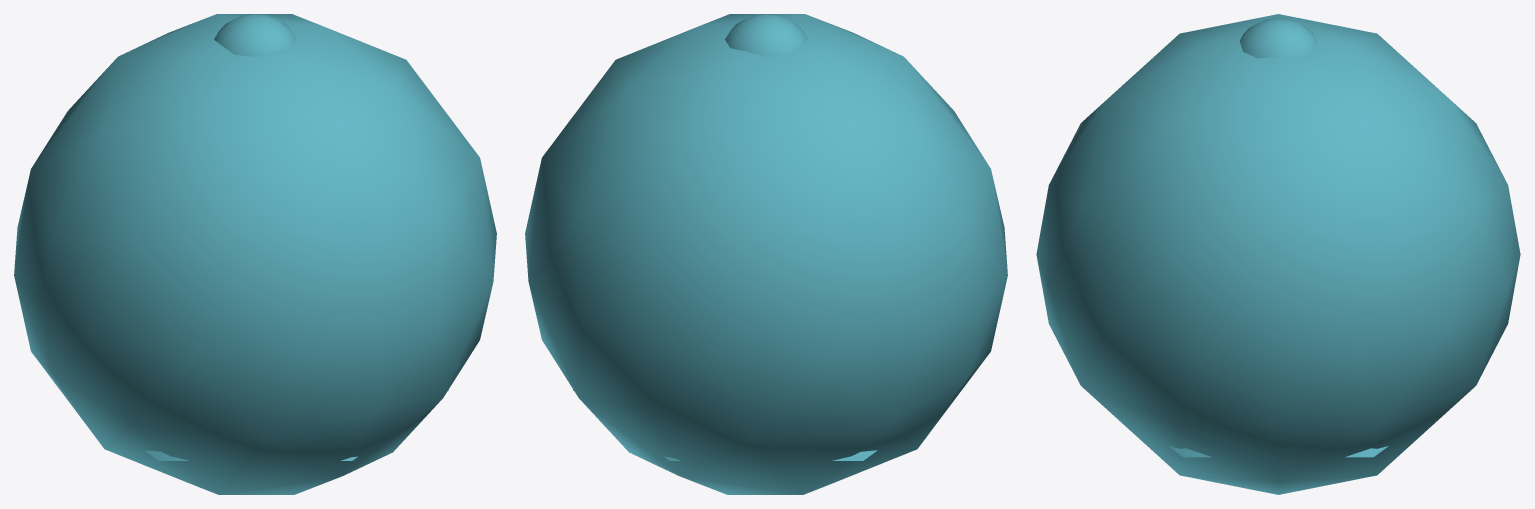
Rendered from nodes.glb.
3 views of the same model, side by side, from view 1: azimuth 30°, elevation 25°; view 2: azimuth 150°, elevation 25°; view 3: azimuth 270°, elevation 25° (orthographic).
Visible parts, largest first — view 1: Node_api_Body, Node_api_Emissive; view 2: Node_api_Body, Node_api_Emissive; view 3: Node_api_Body, Node_api_Emissive.
Boxes of the visible parts, x1,y1,x2,y2 form: Node_api_Body: (14, 14, 496, 494); Node_api_Emissive: (214, 14, 296, 56); Node_api_Body: (525, 14, 1007, 494); Node_api_Emissive: (725, 14, 807, 56); Node_api_Body: (1036, 14, 1520, 494); Node_api_Emissive: (1240, 18, 1316, 58).
Size of the model in its own units: 0.28 by 0.288 by 0.28.
